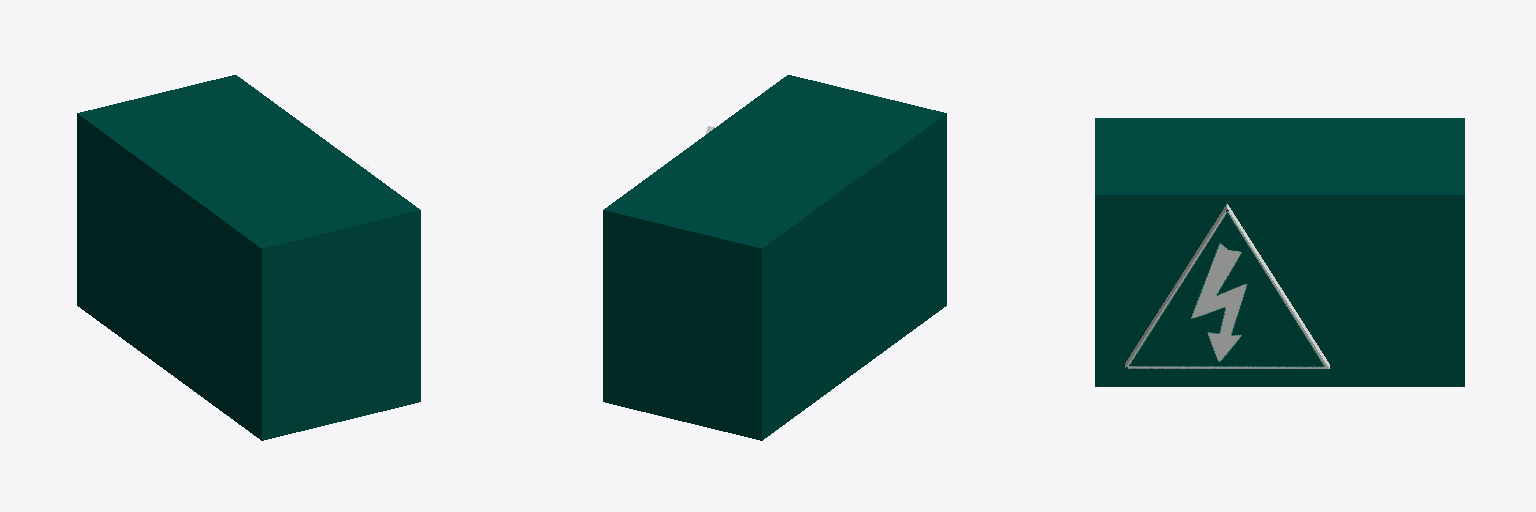
3 views of the same model, side by side, from view 1: azimuth 30°, elevation 25°; view 2: azimuth 150°, elevation 25°; view 3: azimuth 270°, elevation 25° (orthographic).
Parts seen in each view (by area): view 1: Circle; view 2: Circle; view 3: Circle.
Boxes of the visible parts, <box> form: Circle: <box>77,75,420,440</box>; Circle: <box>603,75,946,440</box>; Circle: <box>1095,118,1464,386</box>.
Bounding box in the file's own units: 2.18 × 2.31 × 4.03.
1 materials, 1 textured.